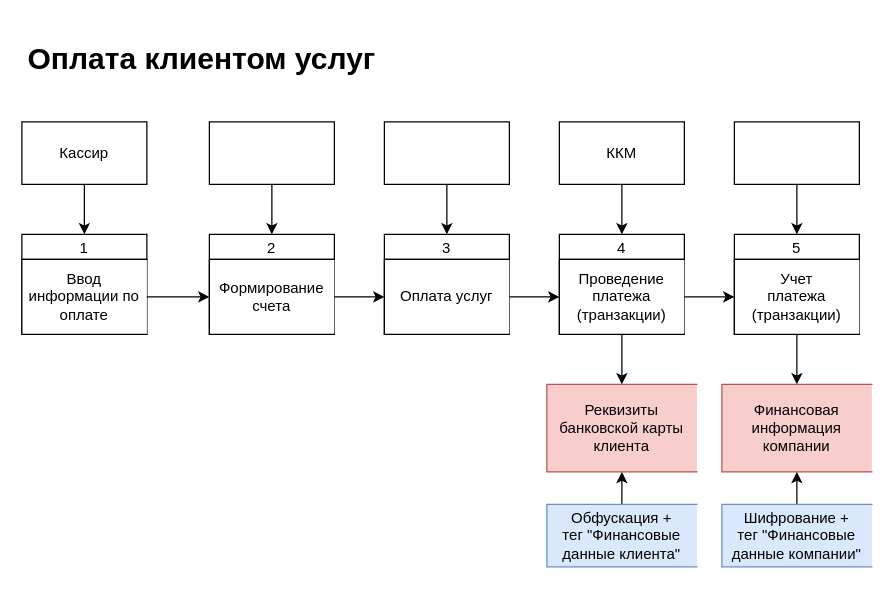
This 894x589 diagram has some shape labels left out. Each missing label, with the box of its shape:
1С Бухгалтерия предприятия: (733, 121, 859, 184)
1С Торговля и склад: (208, 121, 334, 184)
Клиент: (383, 121, 509, 184)
